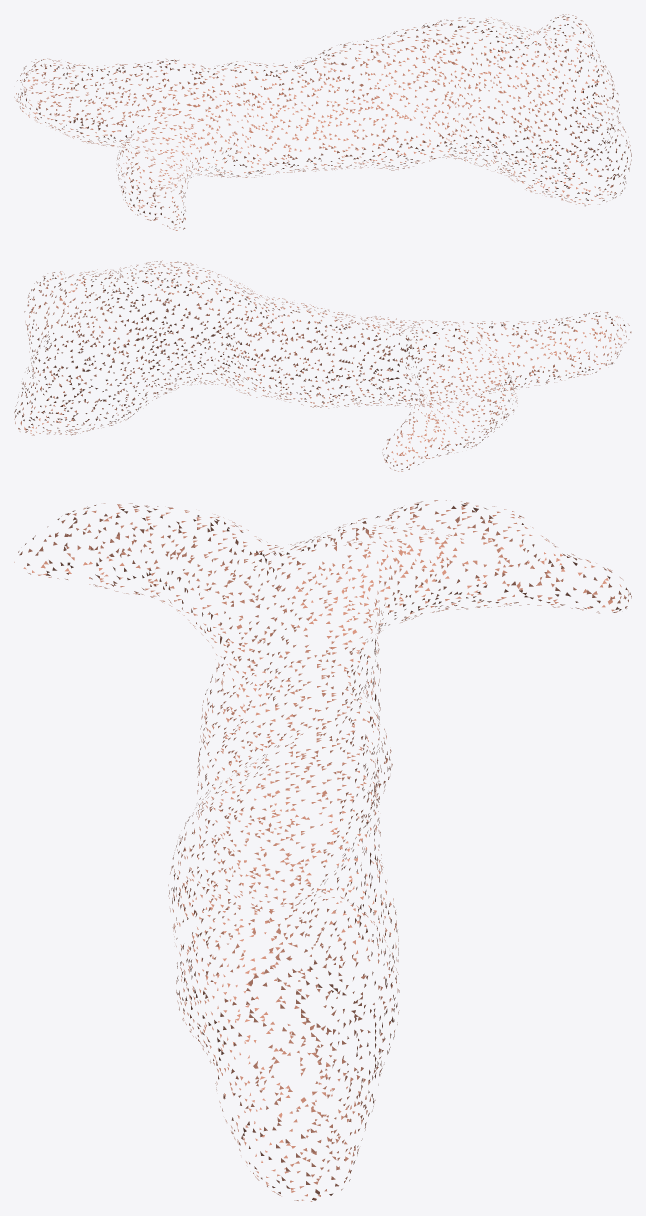
The model's file is morph_003.glb.
The picture shows the model from 3 angles, top to bottom: view 1: azimuth 30°, elevation 25°; view 2: azimuth 150°, elevation 25°; view 3: azimuth 270°, elevation 25°; orthographic projection. The views are drawn at different scales.
Size of the model in its own units: 141 by 54.23 by 89.29.
